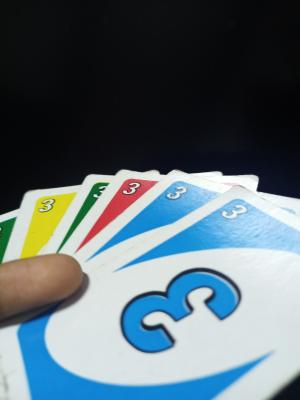blue: (106, 231, 293, 397)
num_3: (31, 194, 61, 217), (162, 182, 190, 206), (220, 204, 249, 222), (119, 179, 143, 199)
